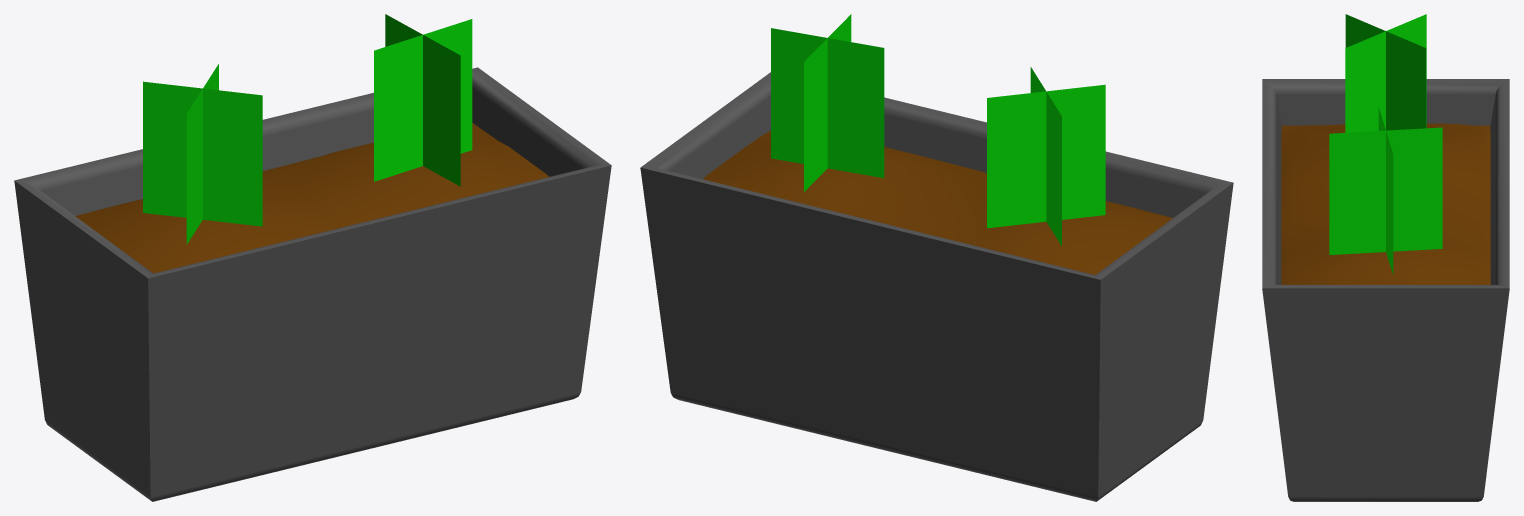
Rendered from MOD_FlowerPot.fbx.
The picture shows the model from 3 angles, left to right: view 1: azimuth 30°, elevation 25°; view 2: azimuth 150°, elevation 25°; view 3: azimuth 270°, elevation 25°; orthographic projection. The views are drawn at different scales.
Parts seen in each view (by area): view 1: FlowerPot; view 2: FlowerPot; view 3: FlowerPot.
Part boxes in pixels (x1,y1,x2,y2): FlowerPot: [14, 14, 611, 501]; FlowerPot: [640, 14, 1233, 501]; FlowerPot: [1262, 14, 1509, 501].
Size of the model in its own units: 100 by 72.93 by 50.
